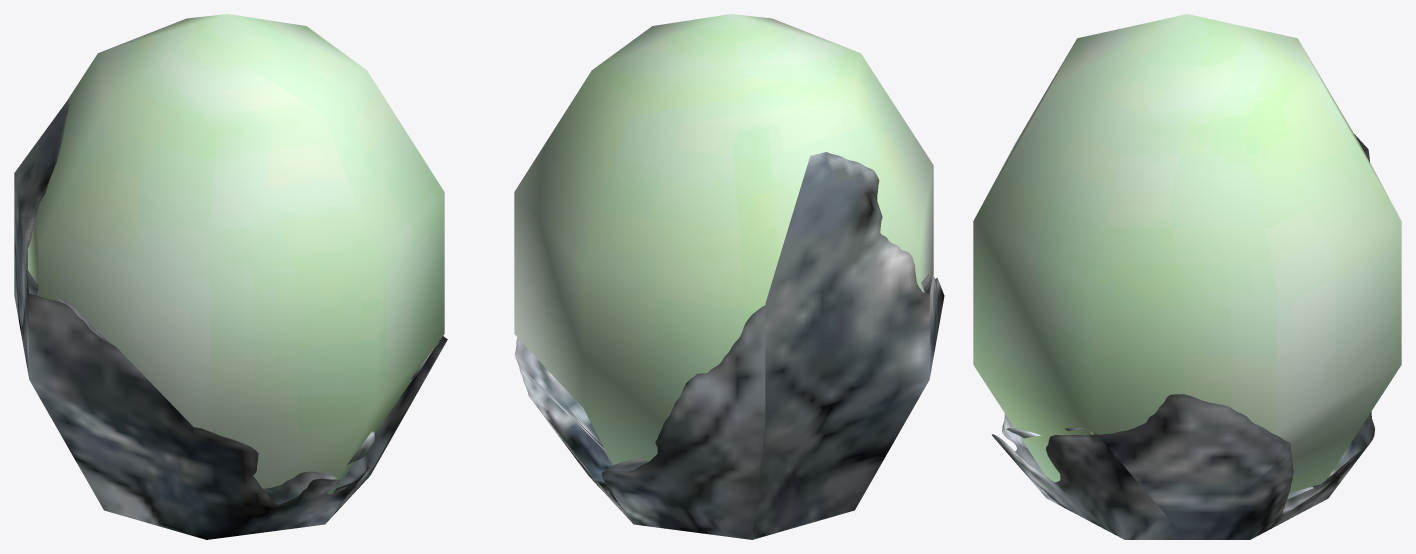
Rendered from force_amplification_crystal_l1.fbx.
3 views of the same model, side by side, from view 1: azimuth 30°, elevation 25°; view 2: azimuth 150°, elevation 25°; view 3: azimuth 270°, elevation 25° (orthographic).
Parts seen in each view (by area): view 1: mesh_node; view 2: mesh_node; view 3: mesh_node.
Part boxes in pixels (x1=…): mesh_node: x1=14, y1=14, x2=447, y2=539; mesh_node: x1=514, y1=14, x2=944, y2=539; mesh_node: x1=973, y1=14, x2=1401, y2=539.
Bounding box in the file's own units: 0.2 × 0.2611 × 0.1947.
2 materials, 2 textured.
